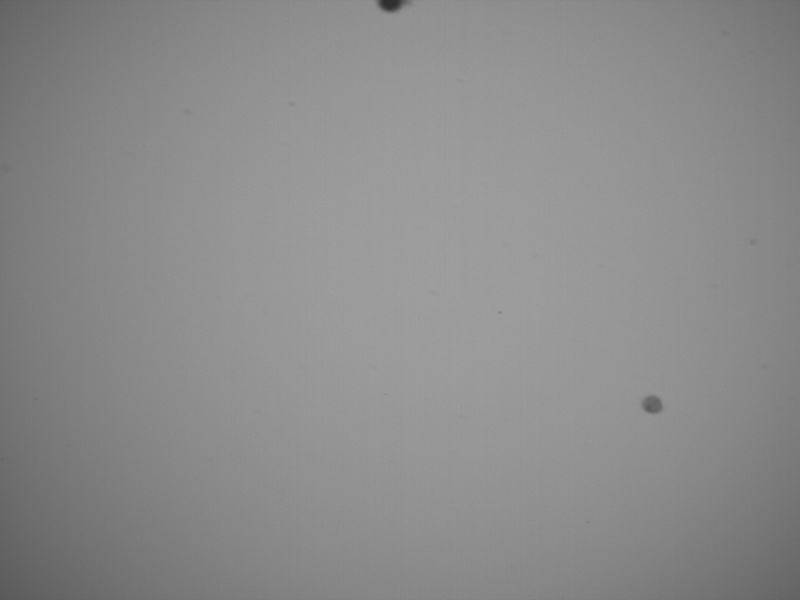bead: (641, 394, 665, 415), (377, 1, 404, 13)
